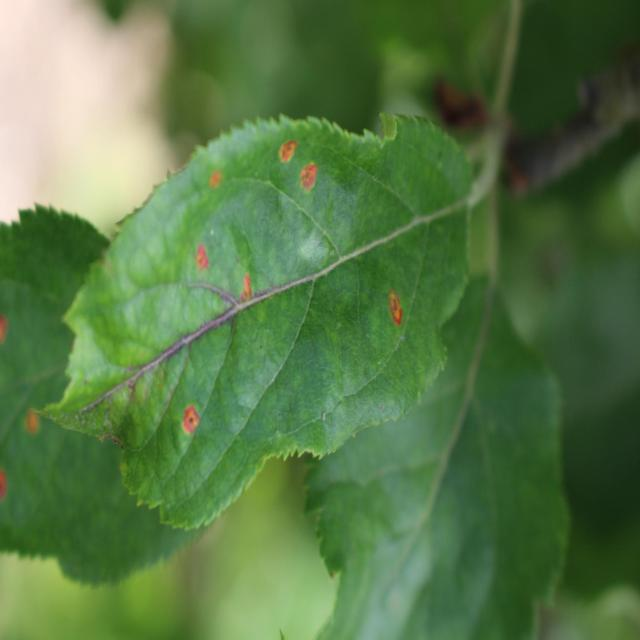Rust: (382, 286, 412, 338), (15, 402, 43, 448), (234, 265, 258, 316), (191, 240, 217, 285), (182, 402, 206, 449), (300, 159, 323, 205), (278, 134, 302, 174), (0, 298, 14, 362), (206, 162, 226, 196), (0, 464, 15, 506)
